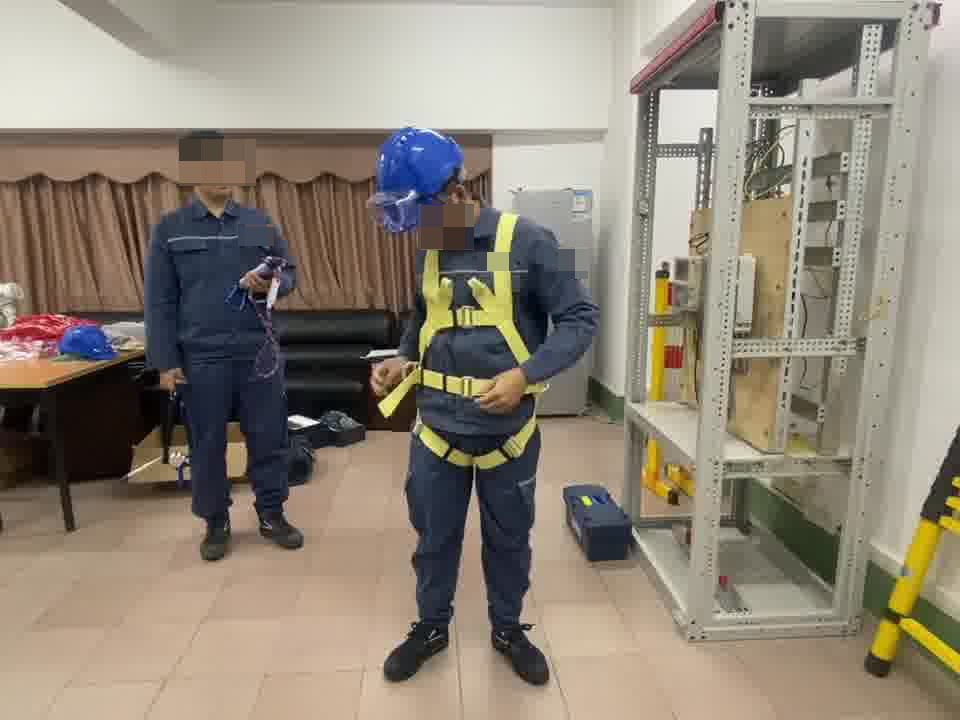downsuit: (402, 432, 543, 629), (176, 369, 295, 520)
halt: (372, 128, 469, 235), (180, 130, 241, 203)
hand: (483, 369, 529, 411), (369, 356, 409, 400), (157, 365, 185, 399)
inear: (443, 184, 473, 226)
noear: (179, 163, 207, 193)
person: (367, 126, 599, 679), (145, 129, 305, 553)
safebelt: (377, 201, 546, 472)
sleeve: (558, 245, 583, 279)
unhalt: (181, 130, 242, 204)
upsuit: (401, 201, 599, 429), (146, 202, 290, 361)
